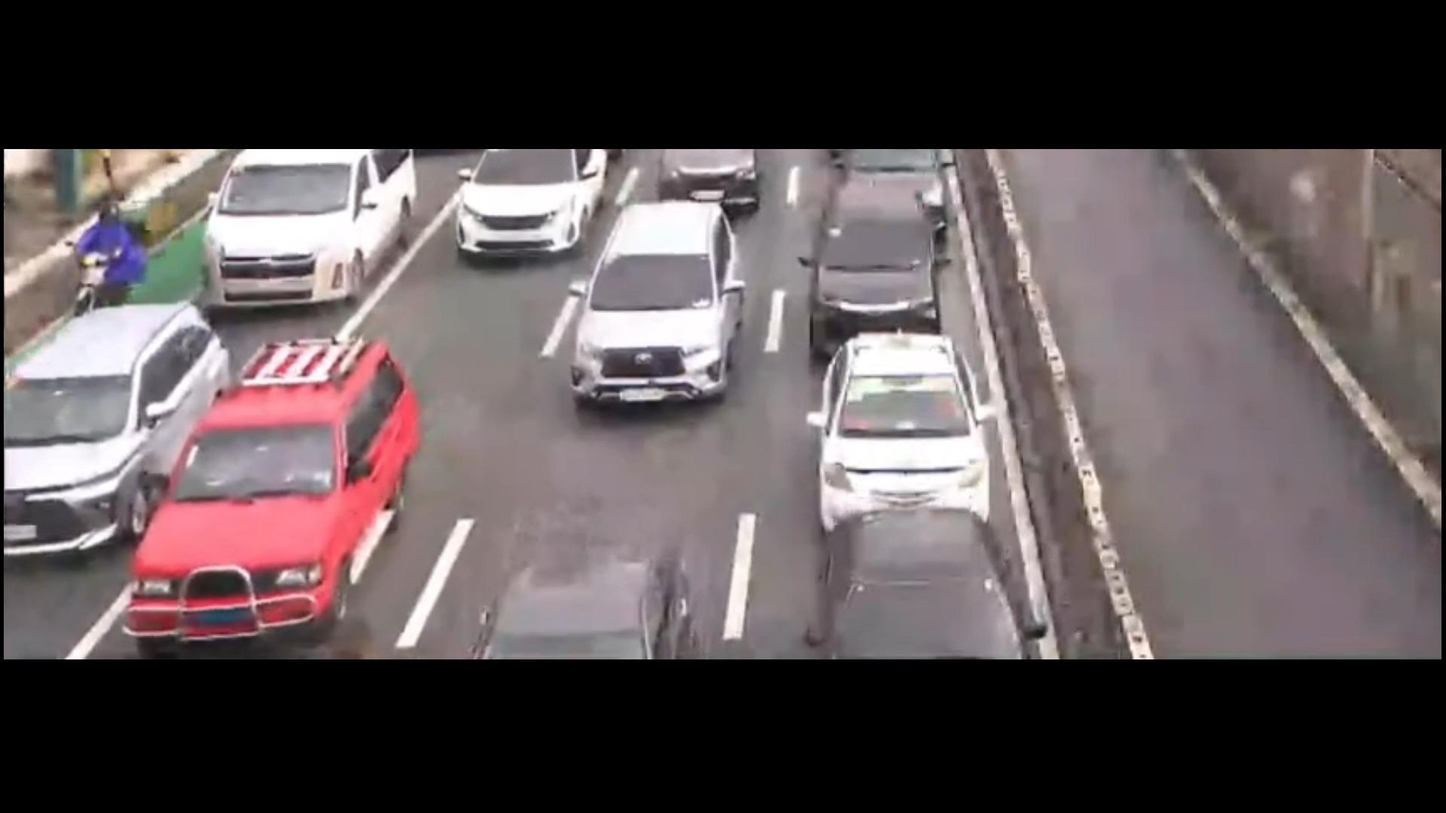Motorcycle: (66, 185, 157, 328)
SUV: (135, 330, 430, 648), (4, 292, 223, 556), (563, 196, 765, 428), (810, 320, 991, 542), (793, 510, 1034, 666), (819, 168, 961, 349), (442, 145, 610, 267)
Van: (206, 155, 418, 312)
